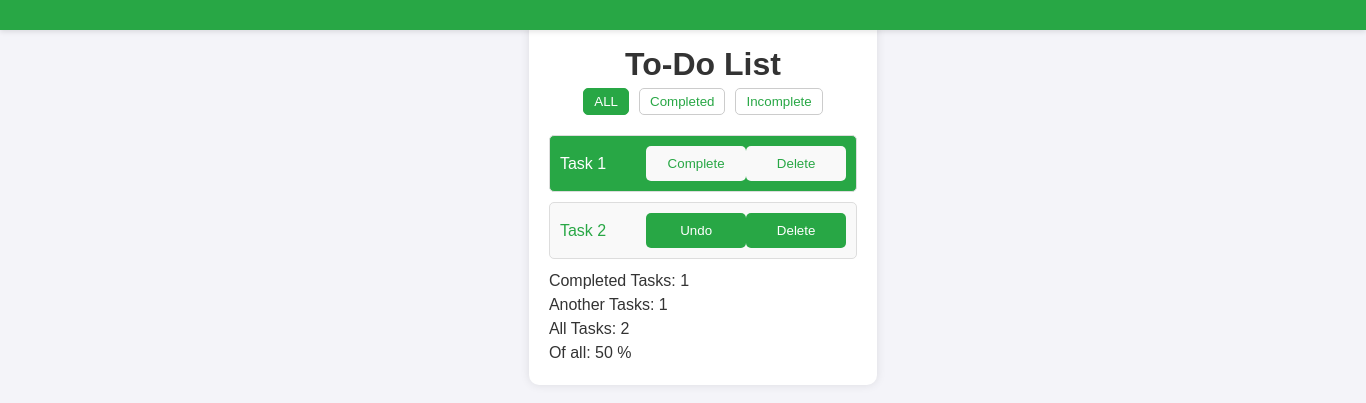
it: filters taksks and shows correct percentage
The image size is (1366, 403).
Check: the text "Task 1" is shown, box [560,152,606,176]
Check: the text "Task 2" is shown, box [560,218,606,242]
Click the button "Completed" at (682, 102), box [639,88,726,115]
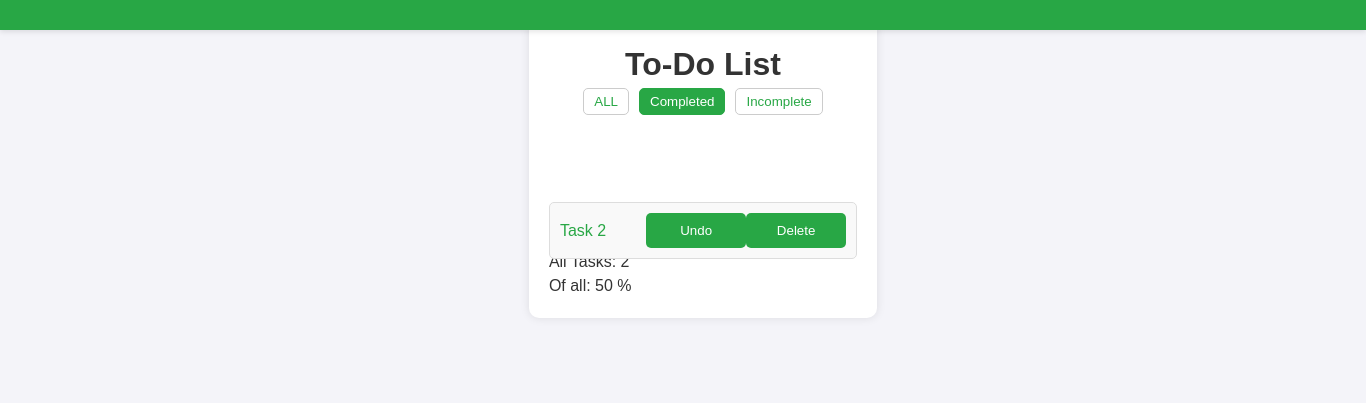
Check: the text "Task 2" is shown, box [560,218,606,242]
Check: the text "Task 1" is gone
Click the button "Incomplete" at (779, 102), box [736,88,823,115]
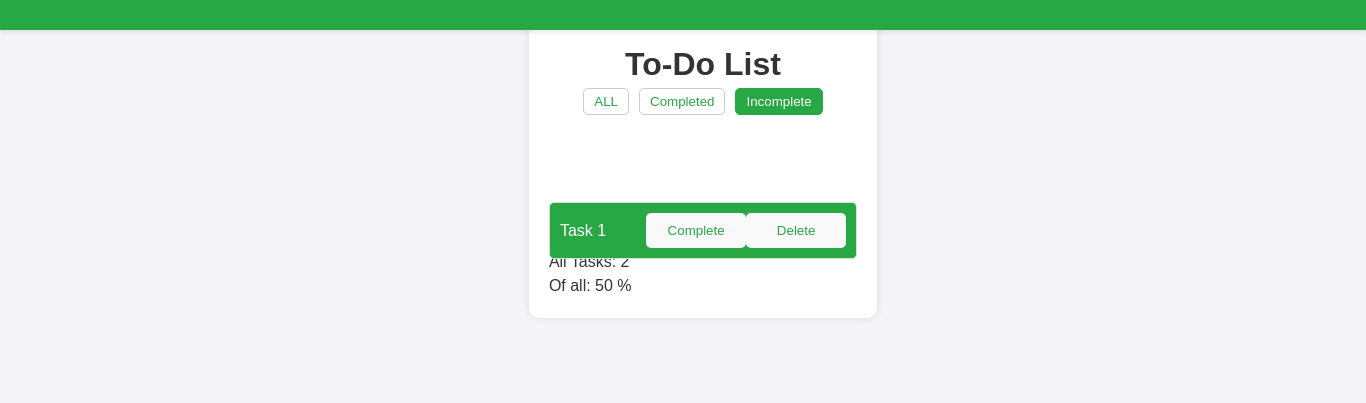
Check: the text "Of all: 50 %" is shown, box [549,277,632,294]
Check: the text "Task 1" is shown, box [560,218,606,242]
Check: the text "Task 2" is gone
Click the button "ALL" at (606, 102), box [583,88,629,115]
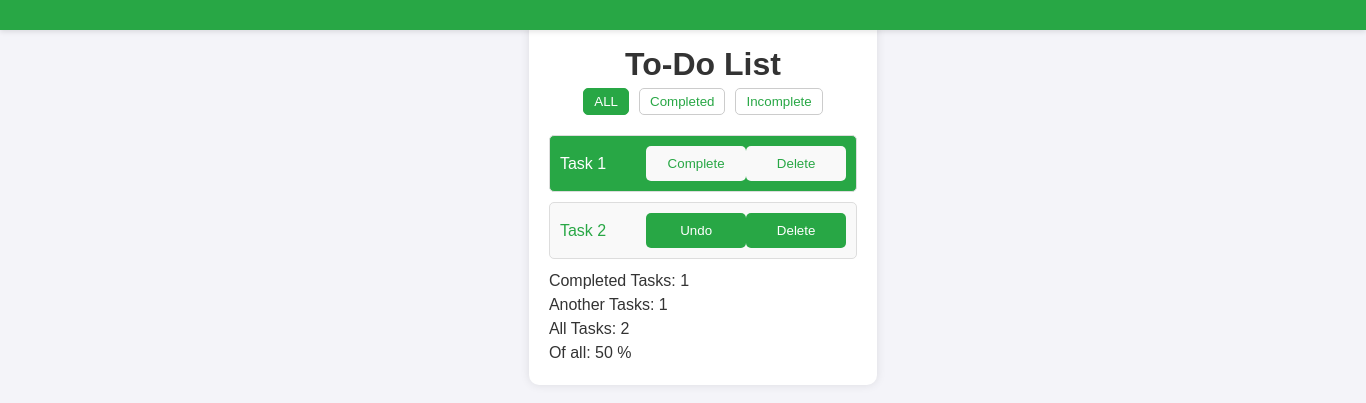
Check: the text "Of all: 50 %" is shown, box [549,344,632,361]
Check: the text "Task 1" is shown, box [560,152,606,176]
Check: the text "Task 2" is shown, box [560,218,606,242]
